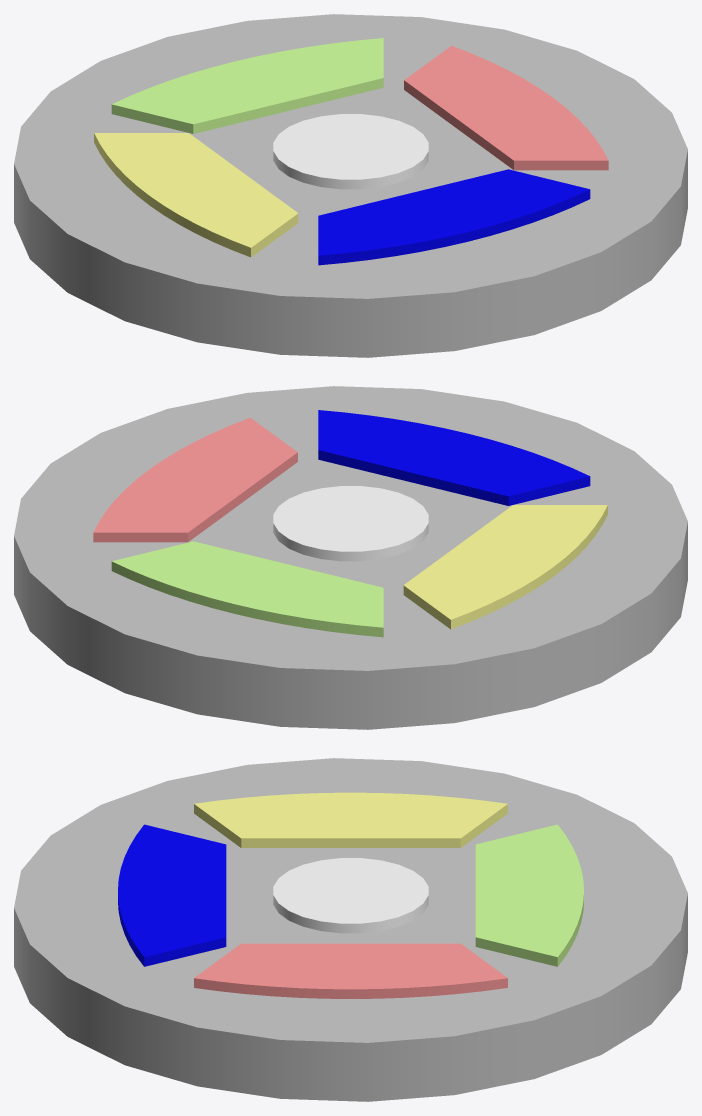
Rendered from full_blue.obj.
3 renders of one model, top to bottom at view 1: azimuth 30°, elevation 25°; view 2: azimuth 150°, elevation 25°; view 3: azimuth 270°, elevation 25°, orthographic.
Parts seen in each view (by area): view 1: Mesh5 Model, Mesh1 Group1 Model, Mesh3 Group3 Model, Mesh2 Group2 Model, Mesh4 Group4 Model; view 2: Mesh5 Model, Mesh3 Group3 Model, Mesh1 Group1 Model, Mesh2 Group2 Model, Mesh4 Group4 Model; view 3: Mesh5 Model, Mesh2 Group2 Model, Mesh4 Group4 Model, Mesh1 Group1 Model, Mesh3 Group3 Model.
Boxes of the visible parts, x1=… form: Mesh5 Model: x1=14, y1=14, x2=687, y2=357; Mesh1 Group1 Model: x1=318, y1=169, x2=590, y2=265; Mesh3 Group3 Model: x1=111, y1=38, x2=383, y2=133; Mesh2 Group2 Model: x1=404, y1=45, x2=608, y2=170; Mesh4 Group4 Model: x1=94, y1=133, x2=298, y2=257; Mesh5 Model: x1=14, y1=386, x2=687, y2=729; Mesh3 Group3 Model: x1=111, y1=541, x2=383, y2=637; Mesh1 Group1 Model: x1=318, y1=410, x2=590, y2=505; Mesh2 Group2 Model: x1=93, y1=417, x2=297, y2=542; Mesh4 Group4 Model: x1=403, y1=505, x2=607, y2=629; Mesh5 Model: x1=14, y1=758, x2=687, y2=1101; Mesh2 Group2 Model: x1=194, y1=943, x2=507, y2=998; Mesh4 Group4 Model: x1=194, y1=792, x2=507, y2=847; Mesh1 Group1 Model: x1=118, y1=824, x2=226, y2=966; Mesh3 Group3 Model: x1=475, y1=824, x2=583, y2=966.
Size of the model in its own units: 183 by 20.5 by 183.
